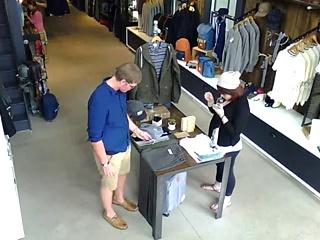Normal: (86, 63, 152, 231), (200, 70, 250, 212)
